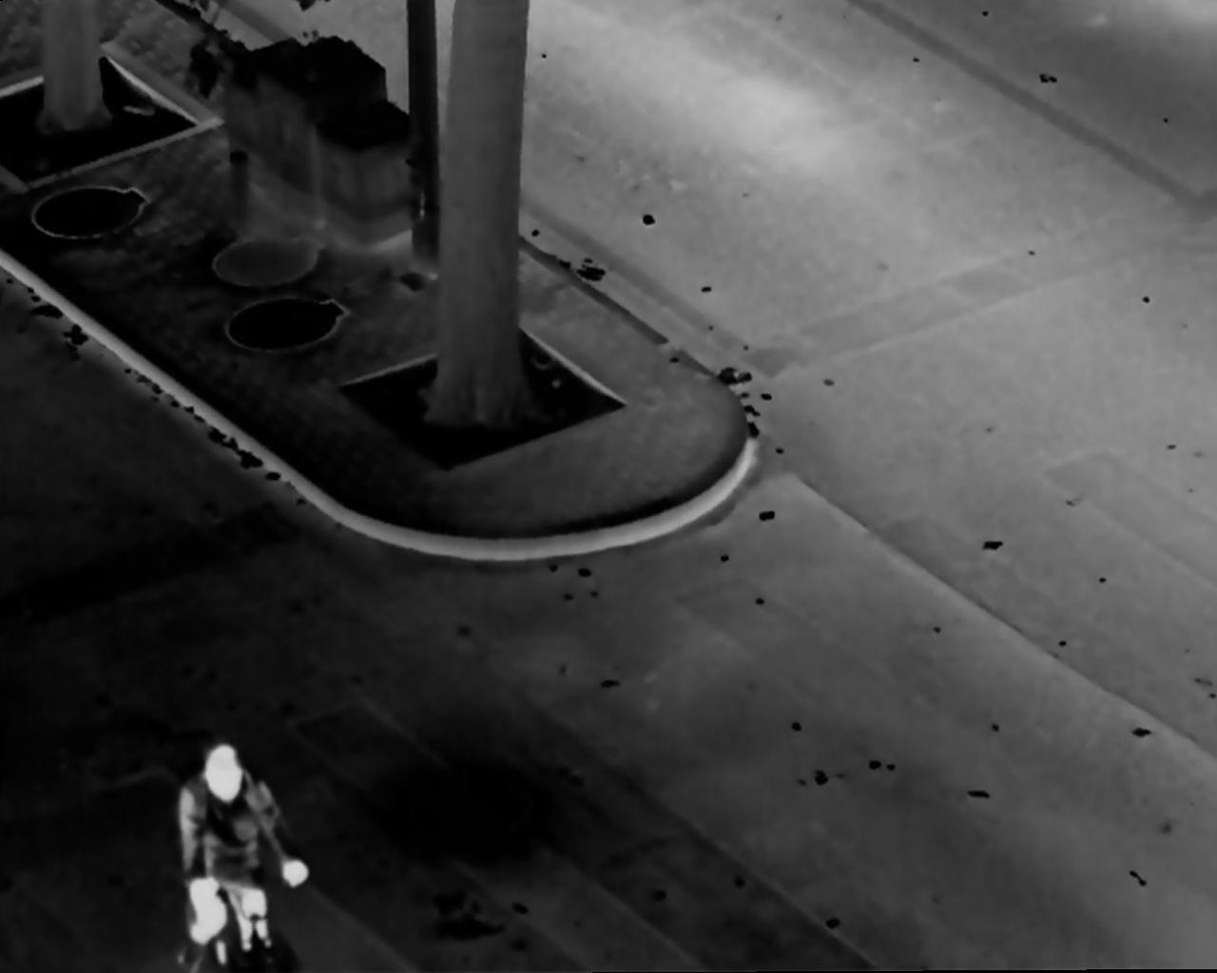person: (168, 734, 305, 973)
